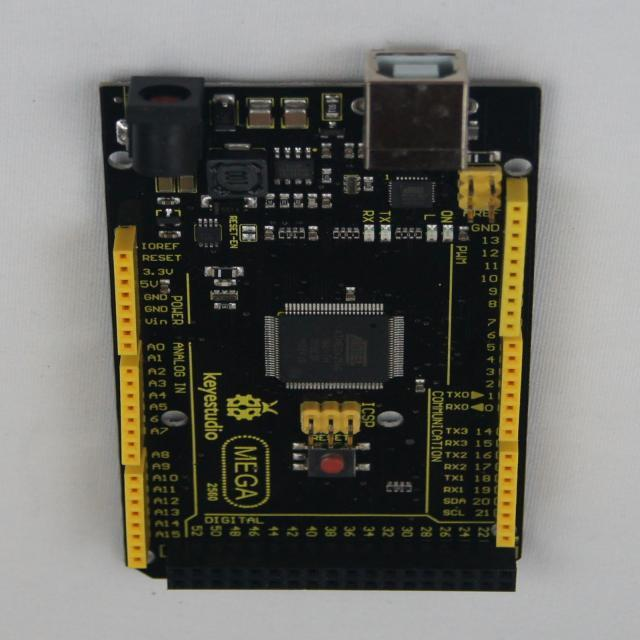Arduino Mega 2560 -Yellow-: (101, 49, 540, 590)
